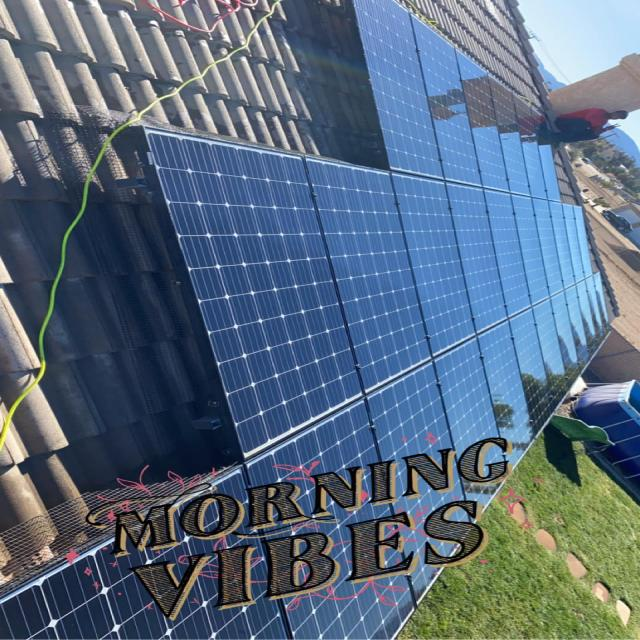clean-solar-panel: (2, 1, 607, 640)
